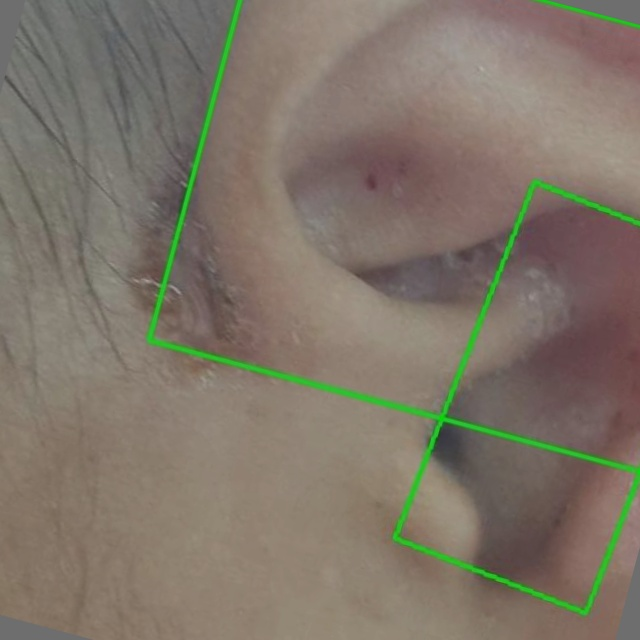Eczema: (147, 0, 639, 472), (392, 181, 639, 614)
